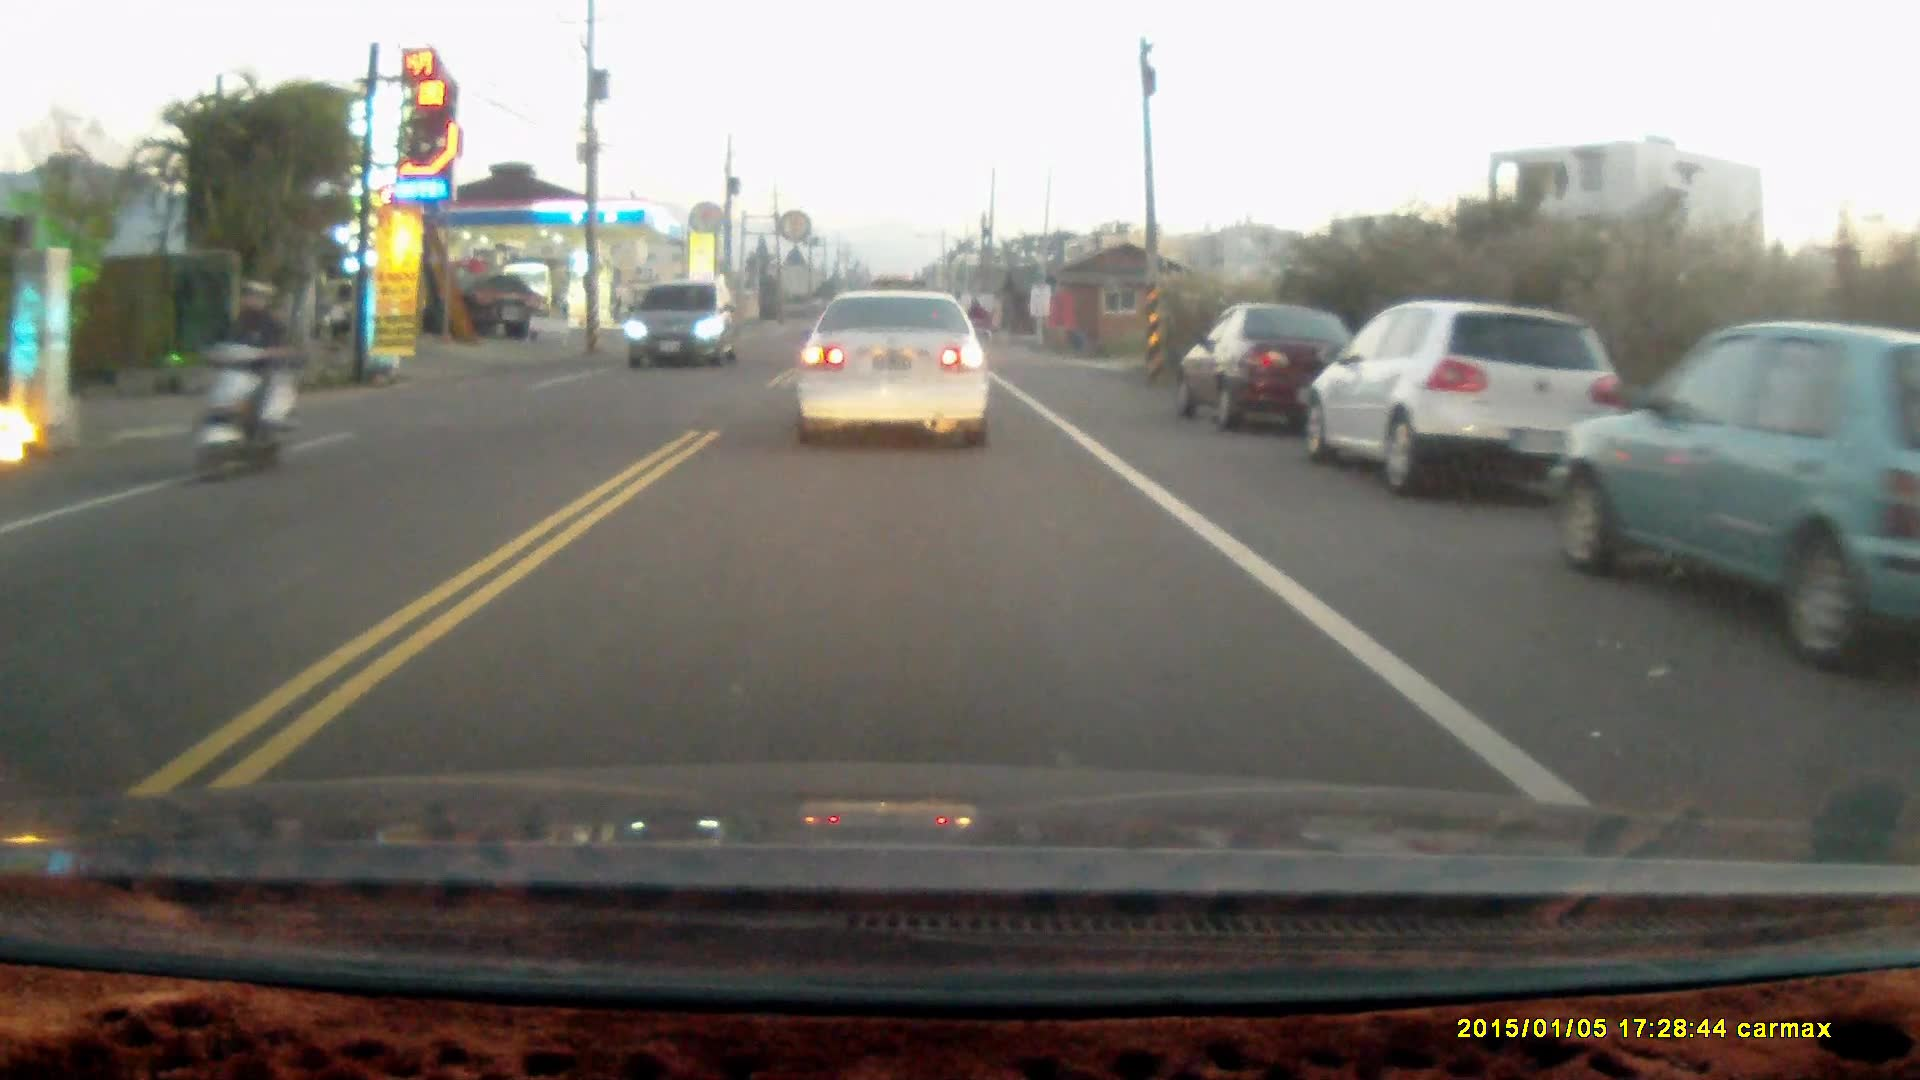rider: (186, 276, 299, 486)
vehicle: (1550, 317, 1920, 679), (1310, 295, 1625, 495), (796, 291, 995, 456), (1180, 300, 1370, 430), (625, 280, 743, 370)
